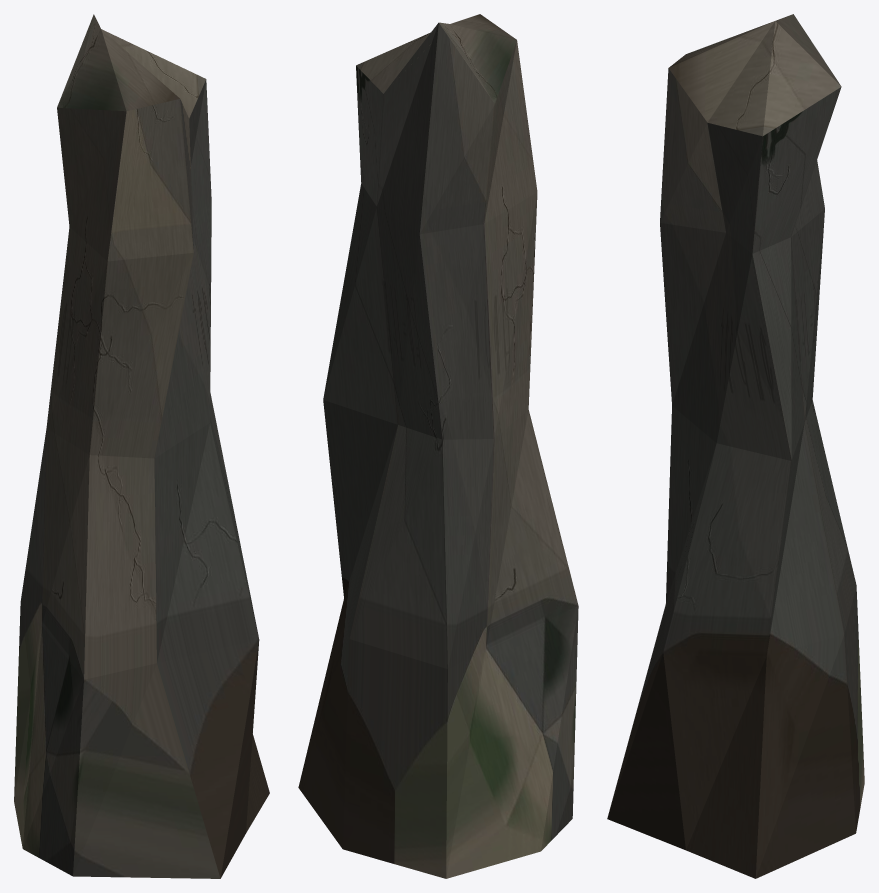
The model's file is monolito-02.glb.
3 views of the same model, side by side, from view 1: azimuth 30°, elevation 25°; view 2: azimuth 150°, elevation 25°; view 3: azimuth 270°, elevation 25° (orthographic). The views are drawn at different scales.
Visible parts, largest first — view 1: monolito-02-np; view 2: monolito-02-np; view 3: monolito-02-np.
Boxes of the visible parts, x1,y1,x2,y2 form: monolito-02-np: (14,14,269,878); monolito-02-np: (298,14,578,878); monolito-02-np: (607,14,864,878).
Size of the model in its own units: 1.22 by 3.87 by 1.15.
Materials: 1 (1 with a texture image).
